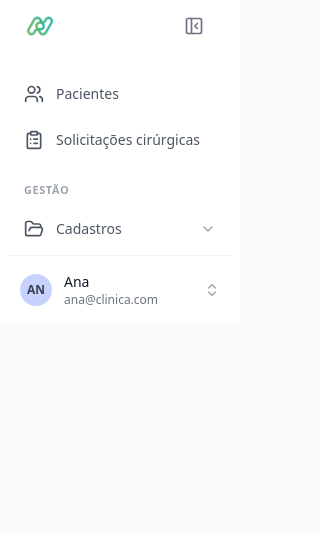
Test: Sidebar — blocos do menu › Procedimentos fica dentro de Cadastros
The width and height of the screenshot is (320, 533).
Expected: the link "Procedimentos" is not shown
Click the button "Cadastros". click: x=120, y=228
box: [12,206,228,250]
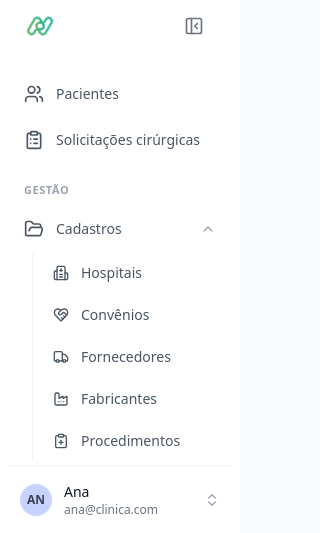
Expected: the link "Procedimentos" is shown, [53,430,180,450]
